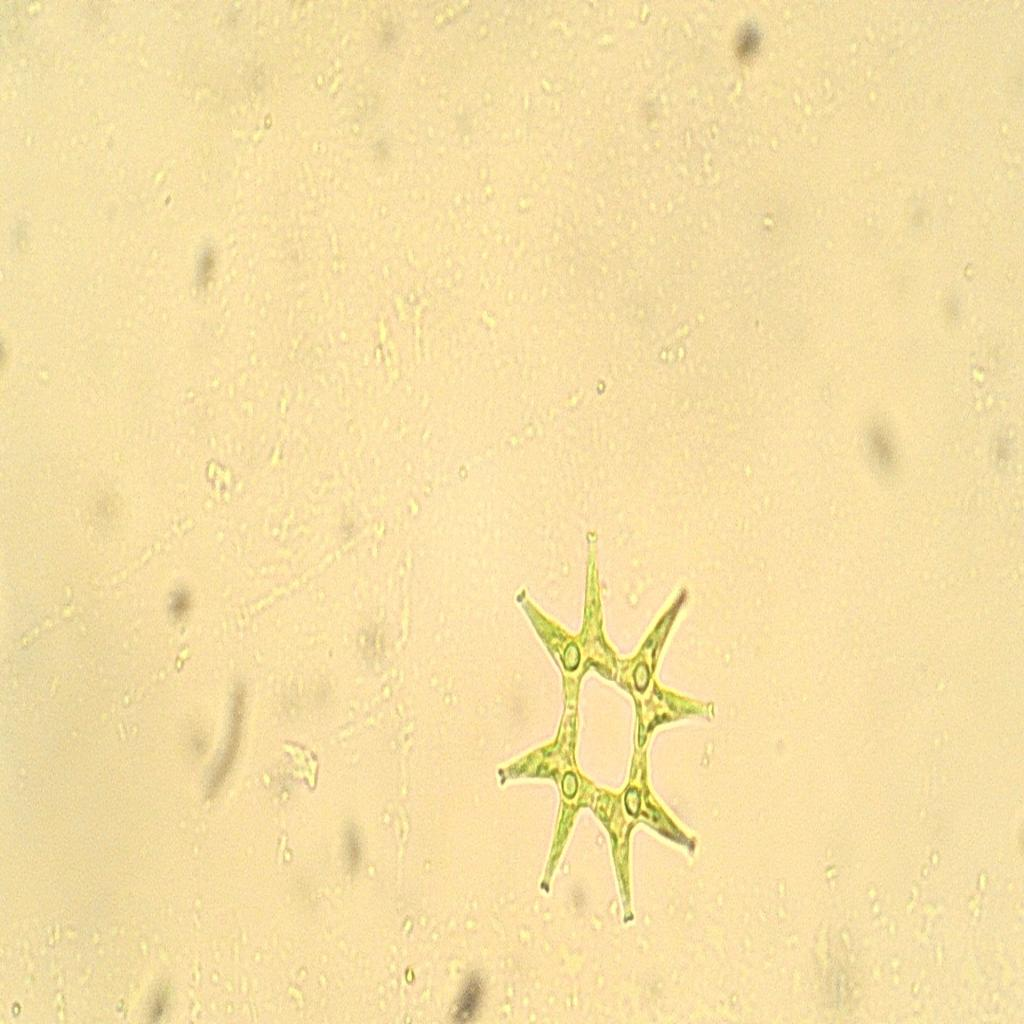Pediastrum_CO: (488, 511, 721, 933)
